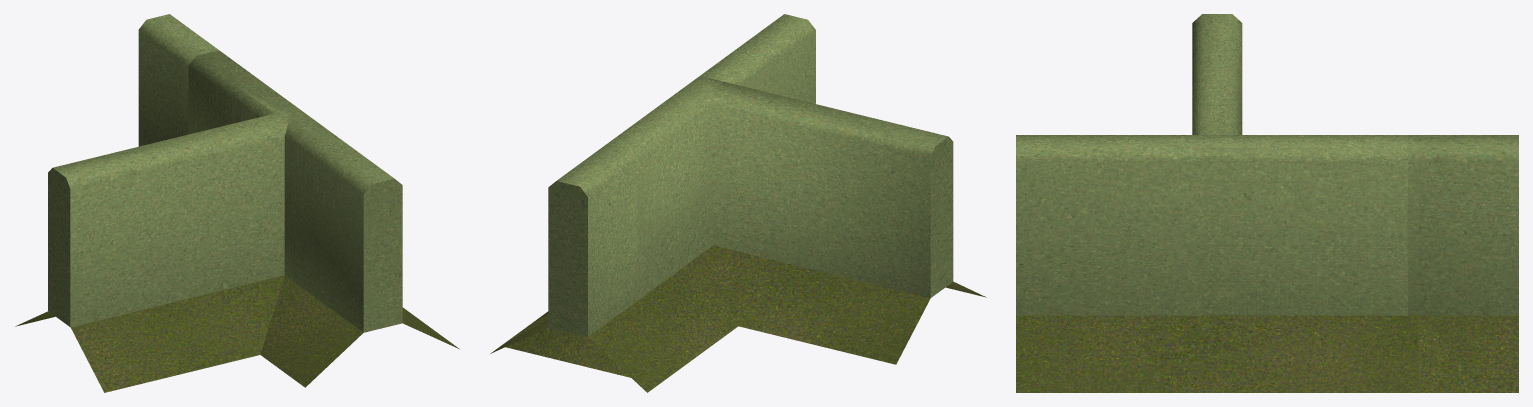
File: Hedge.fbx
The picture shows the model from 3 angles, left to right: view 1: azimuth 30°, elevation 25°; view 2: azimuth 150°, elevation 25°; view 3: azimuth 270°, elevation 25°; orthographic projection. The views are drawn at different scales.
Parts seen in each view (by area): view 1: Hedge_C, Hedge_B, Hedge_C_Base, Hedge_A, Hedge_A_Base, Hedge_B_Base; view 2: Hedge_C, Hedge_C_Base, Hedge_B, Hedge_B_Base, Hedge_A; view 3: Hedge_B, Hedge_A_Base, Hedge_C, Hedge_A, Hedge_C_Base, Hedge_B_Base.
Boxes of the visible parts, <box> form: Hedge_C: <box>48,14,303,327</box>; Hedge_B: <box>188,50,402,332</box>; Hedge_C_Base: <box>15,275,284,392</box>; Hedge_A: <box>183,47,399,299</box>; Hedge_A_Base: <box>260,276,459,387</box>; Hedge_B_Base: <box>269,275,442,387</box>; Hedge_C: <box>548,76,953,336</box>; Hedge_C_Base: <box>490,245,986,392</box>; Hedge_B: <box>607,14,815,299</box>; Hedge_B_Base: <box>502,315,630,377</box>; Hedge_A: <box>602,30,815,302</box>; Hedge_B: <box>1016,135,1407,315</box>; Hedge_A_Base: <box>1016,315,1418,392</box>; Hedge_C: <box>1192,14,1518,315</box>; Hedge_A: <box>1016,135,1418,315</box>; Hedge_C_Base: <box>1419,315,1518,392</box>; Hedge_B_Base: <box>1020,316,1493,392</box>.
Bounding box in the file's own units: 801 × 460 × 1002.
